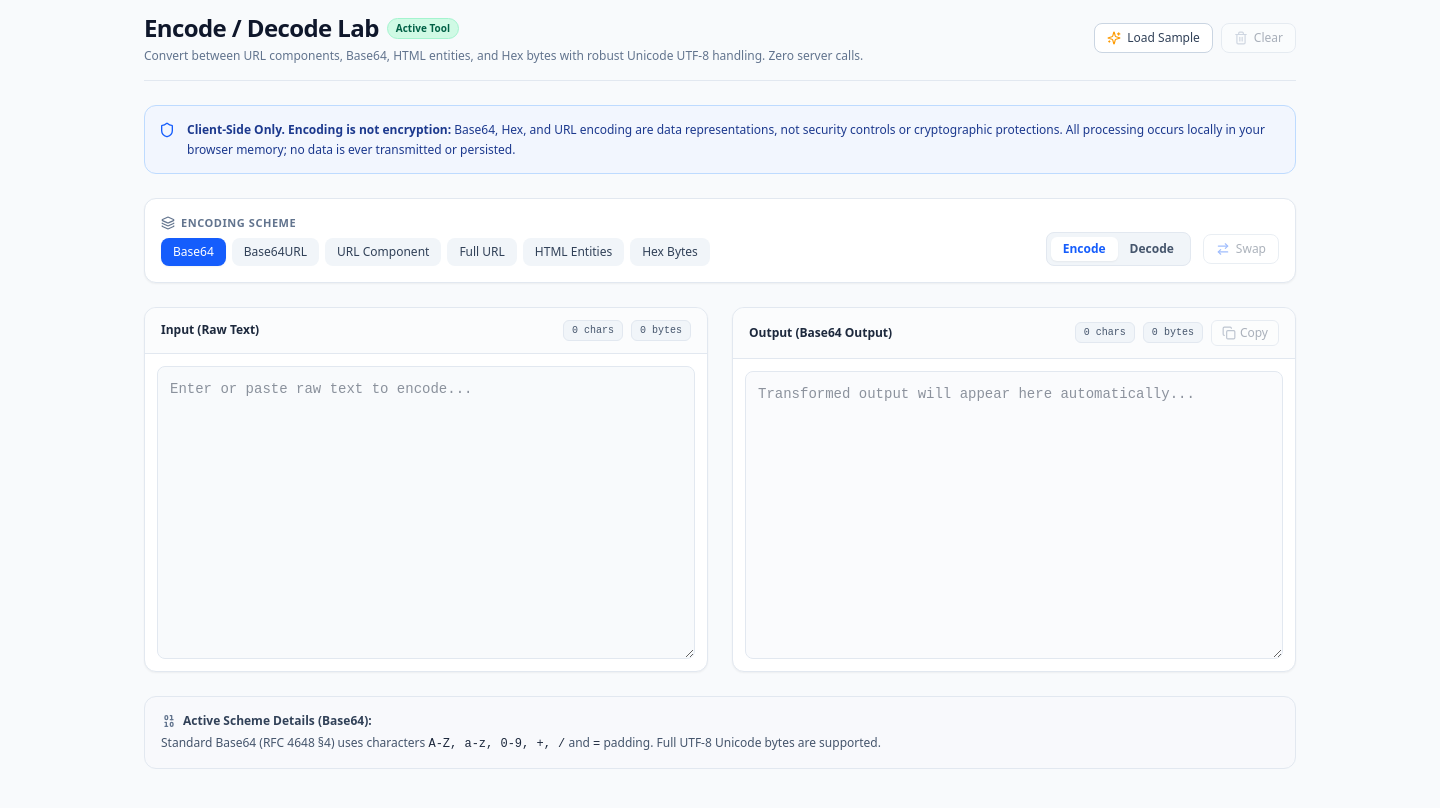
EncodeDecodeLab Component › displays transformation error banner when invalid payload is decoded
The image size is (1440, 808).
# Switch to Decode mode
Click the button "Decode". click: (1152, 248)
box: [1118,236,1186,260]
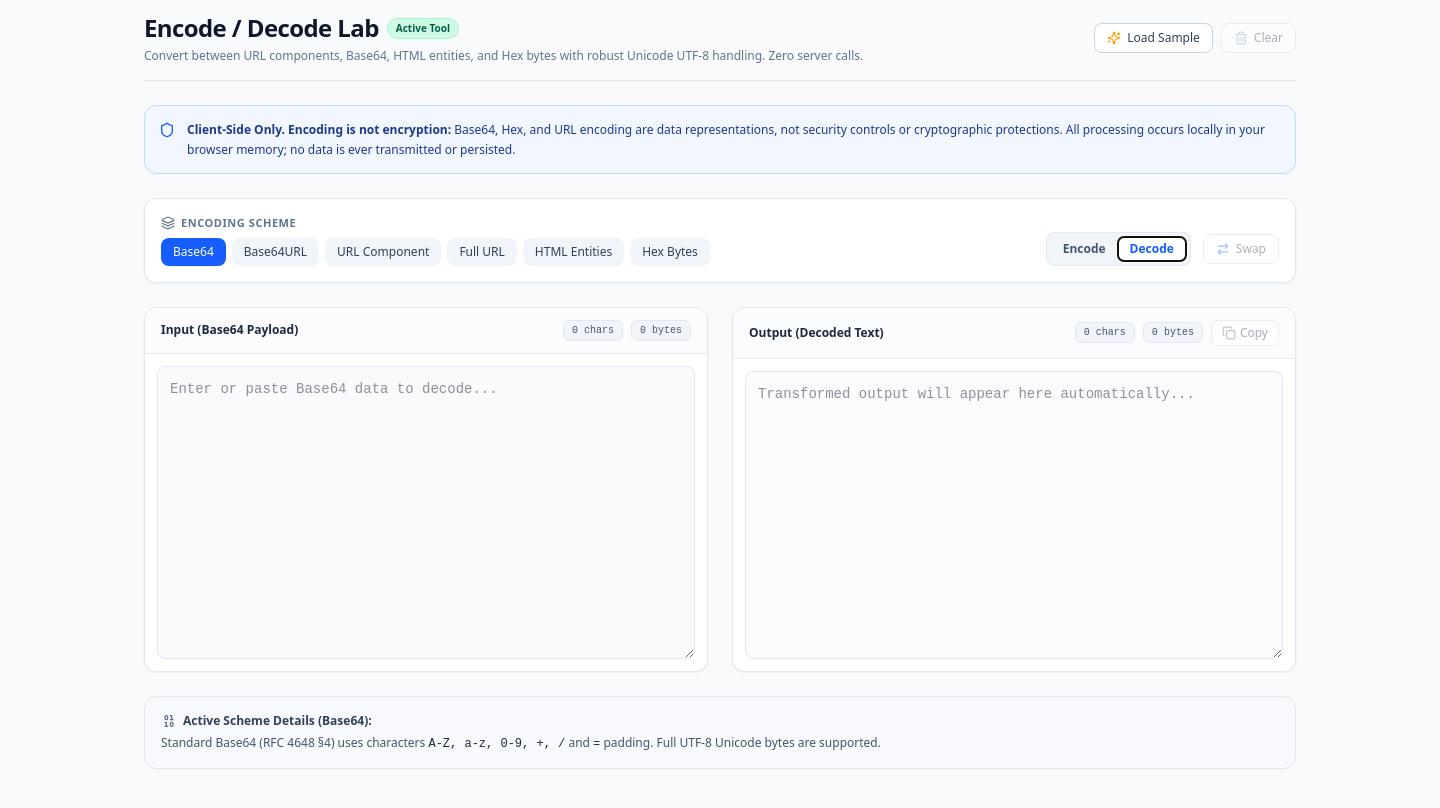
Type "abc" into the text box named "Input payload". click: (426, 512)
box: [157,366,695,658]
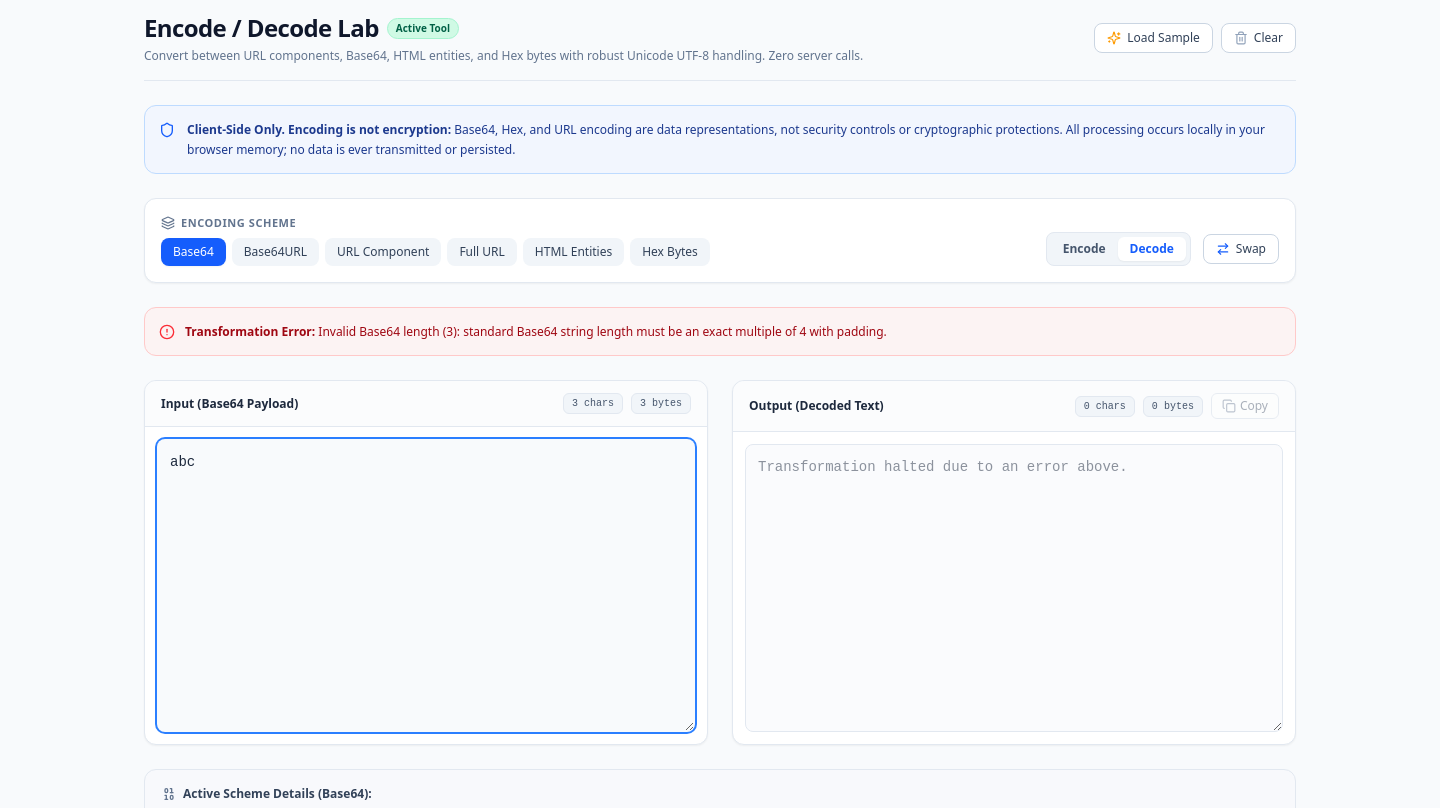
expect the text "Transformation Error:" is shown: met, box [185,322,318,340]
expect the text "standard Base64 string length must be an exact multiple of 4 with padding" is shown: met, box [318,322,887,340]
